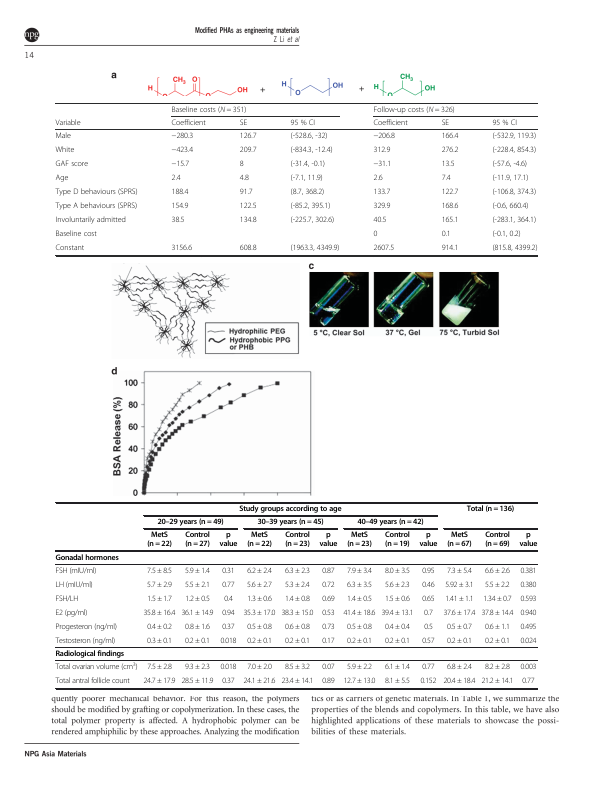borderless: (54, 501, 537, 688), (54, 101, 537, 255)
cell: (238, 505, 342, 514), (55, 661, 138, 672), (54, 187, 138, 197), (54, 201, 138, 211), (372, 105, 456, 114), (54, 215, 127, 225), (256, 518, 325, 528), (55, 677, 131, 686), (171, 105, 247, 114), (156, 518, 224, 528), (356, 518, 424, 528), (55, 553, 120, 563), (55, 622, 118, 632), (55, 650, 125, 659), (55, 636, 116, 646), (146, 531, 173, 550), (184, 531, 211, 550), (246, 531, 273, 550), (284, 531, 311, 550), (346, 531, 373, 550), (384, 531, 411, 550), (446, 531, 473, 550), (484, 531, 511, 550), (290, 243, 340, 253), (491, 243, 538, 253), (491, 131, 537, 141), (491, 145, 537, 155), (491, 187, 537, 197), (491, 215, 537, 225), (290, 215, 335, 225), (466, 505, 515, 514), (54, 229, 98, 239), (290, 145, 333, 155), (55, 566, 97, 576), (290, 201, 331, 211), (55, 580, 94, 590), (318, 531, 338, 550), (418, 531, 438, 550), (518, 531, 538, 550), (290, 131, 328, 141), (491, 173, 529, 183), (491, 201, 529, 211), (372, 118, 409, 128), (491, 159, 528, 169), (219, 531, 238, 550), (171, 118, 207, 128), (290, 159, 326, 169), (54, 159, 89, 169), (290, 187, 325, 197), (142, 608, 176, 618), (180, 608, 214, 618), (242, 608, 276, 618), (280, 608, 314, 618), (342, 608, 376, 618), (380, 608, 414, 618), (442, 608, 476, 618), (480, 608, 514, 618), (290, 173, 324, 183), (55, 608, 88, 618), (444, 594, 475, 604), (482, 594, 513, 604), (491, 229, 522, 239), (54, 243, 85, 253), (142, 677, 176, 686), (180, 677, 214, 686), (242, 677, 276, 686), (280, 677, 314, 686), (342, 677, 376, 686), (442, 677, 476, 686), (480, 677, 514, 686), (444, 580, 474, 590), (146, 566, 173, 576), (184, 566, 211, 576), (246, 566, 273, 576), (284, 566, 311, 576), (346, 566, 373, 576), (384, 566, 411, 576), (446, 566, 473, 576), (484, 566, 511, 576), (146, 580, 173, 590), (184, 580, 211, 590), (246, 580, 273, 590), (284, 580, 311, 590), (346, 580, 373, 590), (384, 580, 411, 590), (484, 580, 511, 590), (146, 594, 173, 604), (184, 594, 211, 604), (246, 594, 273, 604), (284, 594, 311, 604), (346, 594, 373, 604), (384, 594, 411, 604), (146, 622, 173, 632), (184, 622, 211, 632), (246, 622, 273, 632), (284, 622, 311, 632), (346, 622, 373, 632), (384, 622, 411, 632), (446, 622, 473, 632), (484, 622, 511, 632), (146, 636, 173, 646), (184, 636, 211, 646), (246, 636, 273, 646), (284, 636, 311, 646), (346, 636, 373, 646), (384, 636, 411, 646), (446, 636, 473, 646), (484, 636, 511, 646), (54, 118, 81, 128), (491, 118, 518, 128), (290, 118, 316, 128), (146, 663, 173, 672), (184, 663, 211, 672), (246, 663, 273, 672), (284, 663, 311, 672), (346, 663, 373, 672), (384, 663, 411, 672), (446, 663, 473, 672), (484, 663, 511, 672), (384, 677, 411, 686), (55, 594, 79, 604), (372, 131, 396, 141), (171, 131, 194, 141), (171, 145, 194, 155), (372, 243, 395, 253), (171, 243, 193, 253), (54, 145, 75, 155), (372, 159, 392, 169), (372, 145, 391, 155), (171, 159, 190, 169), (372, 187, 391, 197), (372, 201, 391, 211), (519, 566, 537, 576), (519, 580, 537, 590), (519, 594, 537, 604), (519, 608, 537, 618), (519, 622, 537, 632), (219, 636, 237, 646), (519, 636, 537, 646), (54, 131, 72, 141), (239, 131, 257, 141), (441, 131, 459, 141), (239, 145, 257, 155), (441, 145, 459, 155), (171, 187, 189, 197), (441, 187, 459, 197), (171, 201, 189, 211), (239, 201, 257, 211), (441, 201, 459, 211), (239, 215, 257, 225), (441, 215, 459, 225), (239, 243, 257, 253), (441, 243, 459, 253), (219, 663, 237, 672), (519, 663, 537, 672), (419, 677, 437, 686), (221, 566, 236, 576), (321, 566, 336, 576), (321, 594, 336, 604), (421, 594, 436, 604), (321, 608, 336, 618), (221, 622, 236, 632), (321, 622, 336, 632), (321, 636, 336, 646), (54, 173, 69, 183), (239, 187, 254, 197), (372, 215, 387, 225), (421, 566, 435, 576), (221, 580, 235, 590), (321, 580, 335, 590), (421, 580, 435, 590), (221, 608, 235, 618), (421, 636, 435, 646), (441, 159, 455, 169), (171, 215, 185, 225), (321, 663, 336, 672), (321, 677, 336, 686), (421, 663, 435, 672), (221, 677, 235, 686), (521, 677, 535, 686), (223, 594, 234, 604), (423, 608, 434, 618), (423, 622, 434, 632), (171, 173, 182, 183), (239, 173, 250, 183), (372, 173, 383, 183), (441, 173, 452, 183), (441, 229, 452, 239), (239, 118, 248, 128), (441, 118, 450, 128), (239, 159, 245, 169), (372, 229, 378, 239)
